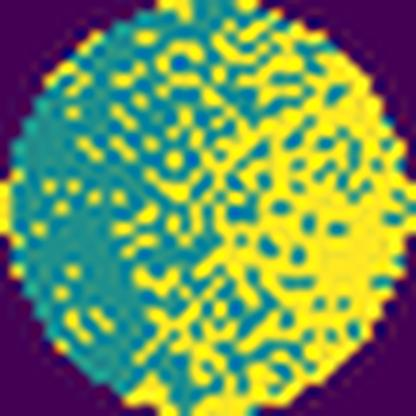Random: (105, 0, 415, 416)
